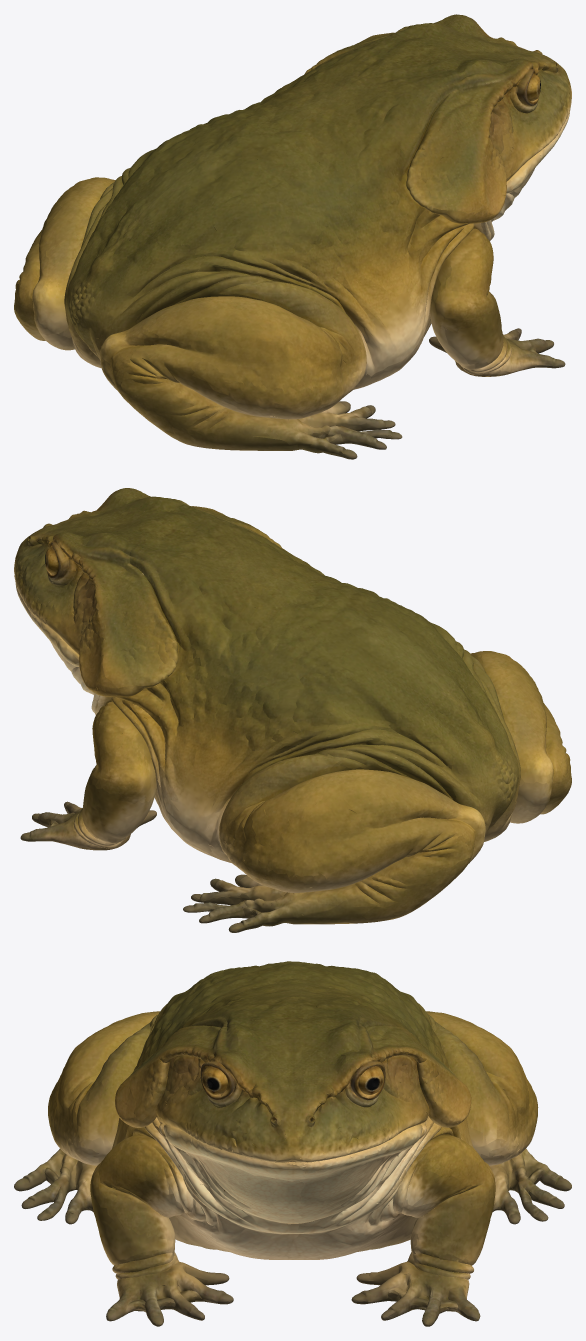
3 renders of one model, top to bottom at view 1: azimuth 30°, elevation 25°; view 2: azimuth 150°, elevation 25°; view 3: azimuth 270°, elevation 25°, orthographic. The views are drawn at different scales.
Parts seen in each view (by area): view 1: output_unwrapped; view 2: output_unwrapped; view 3: output_unwrapped.
Boxes of the visible parts, <box> form: output_unwrapped: <box>14,14,571,459</box>; output_unwrapped: <box>14,488,571,932</box>; output_unwrapped: <box>14,961,571,1326</box>.
Size of the model in its own units: 0.2391 by 0.1214 by 0.2197.
1 material, 1 textured.
